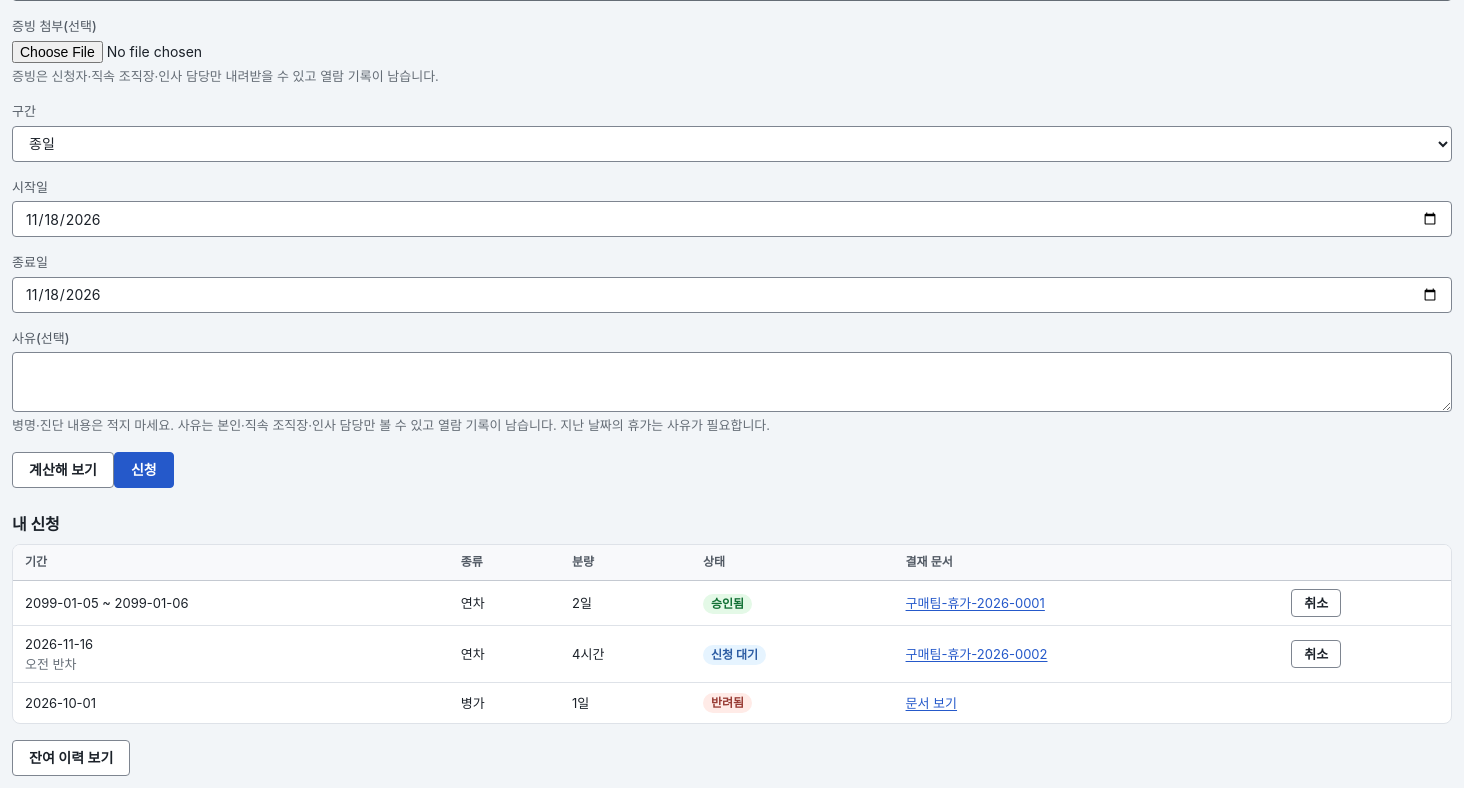
Scenario: 내 휴가 화면(B50) › 잔여 이력은 눌렀을 때만 불러온다
The width and height of the screenshot is (1464, 788).
(page scrolled)
Click the button "잔여 이력 보기" at point(71, 758), box 12,740 -> 130,776
(page scrolled)
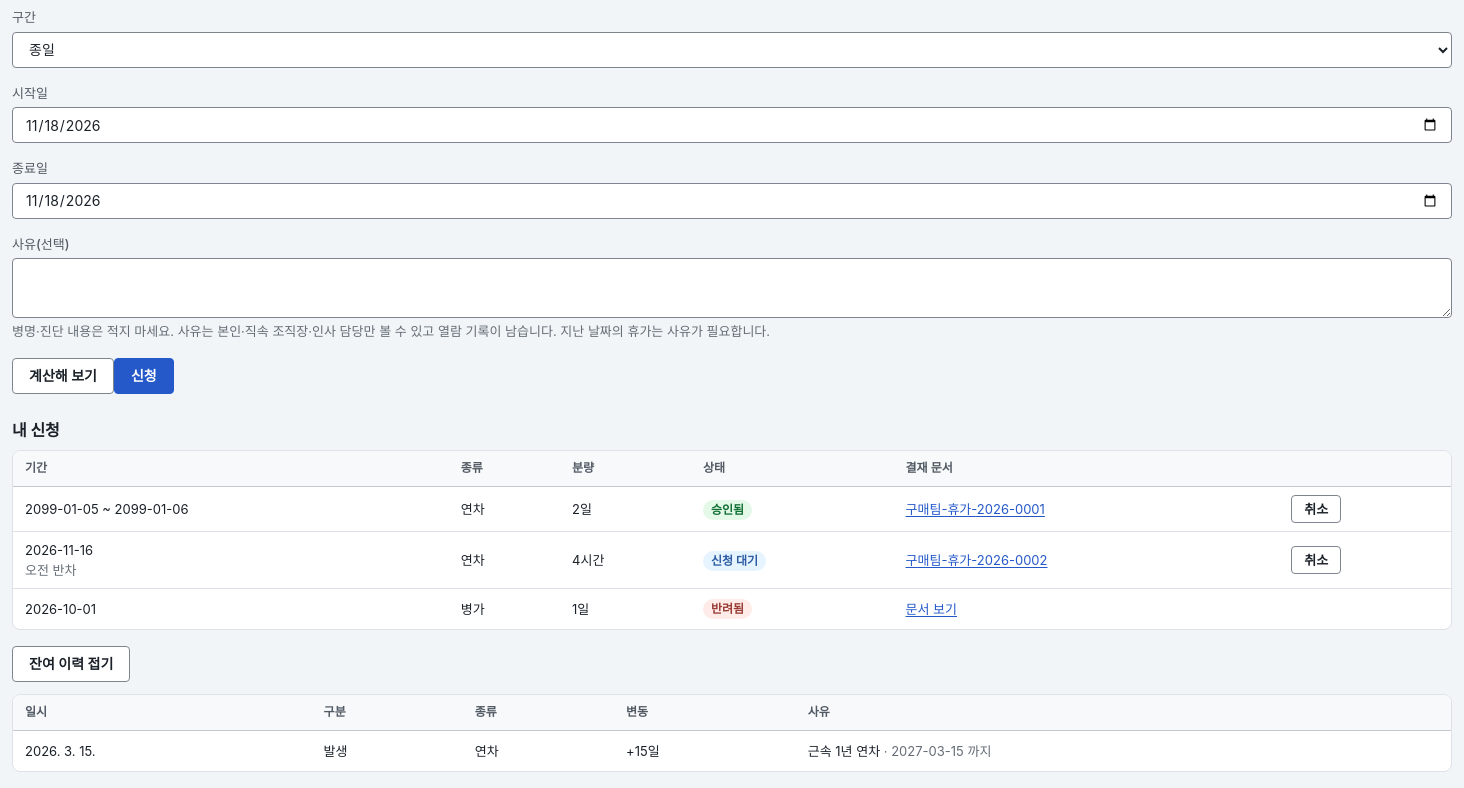
Check: the text "근속 1년 연차" is shown, box 808,743 -> 880,759
Check: the text "+15일" is shown, box 614,730 -> 796,770
